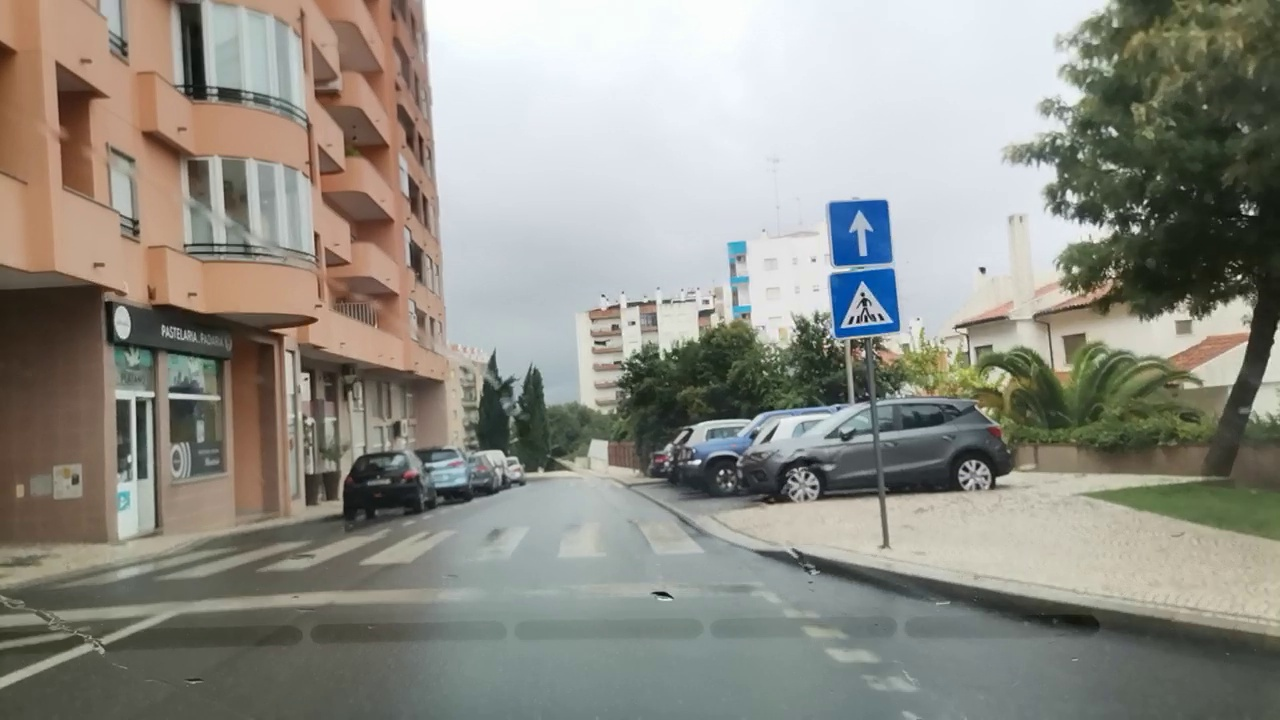Stairs: (61, 515, 705, 587)
